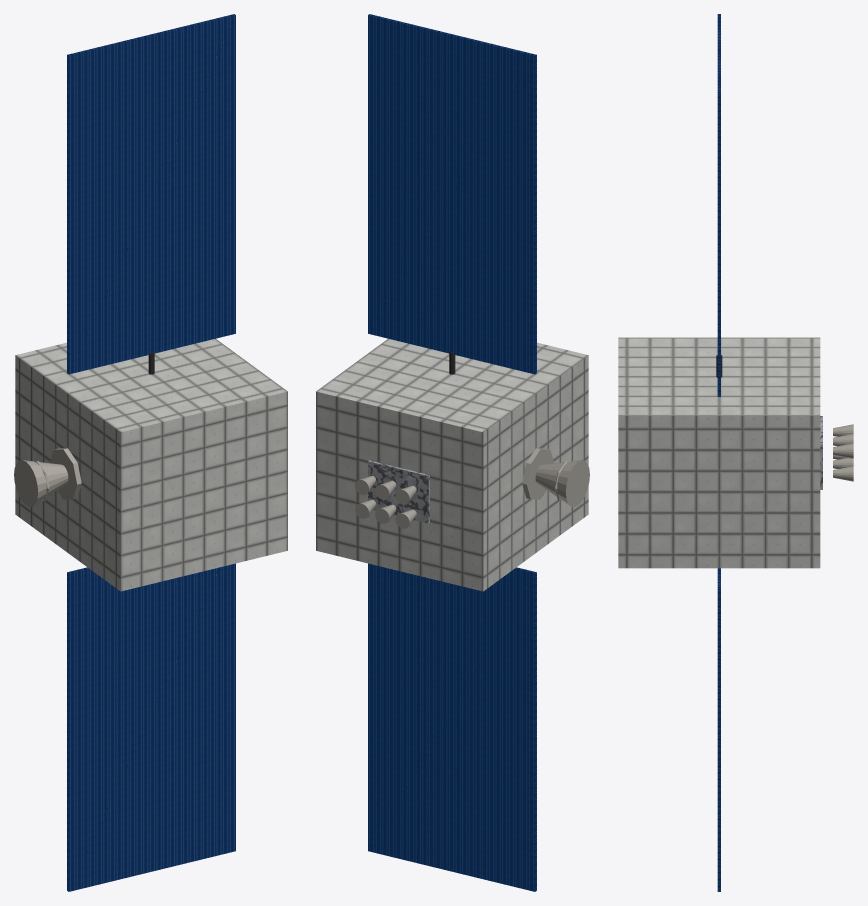
File: client.low.glb
3 renders of one model, left to right at view 1: azimuth 30°, elevation 25°; view 2: azimuth 150°, elevation 25°; view 3: azimuth 270°, elevation 25°, orthographic. The views are drawn at different scales.
Parts seen in each view (by area): view 1: solar_wing_r, bus, solar_wing_l, servicing_0_apogee_nozzle_apogee_nozzle_exit; view 2: solar_wing_r, bus, solar_wing_l, payload_0_feed_array, servicing_0_apogee_nozzle_apogee_nozzle_exit; view 3: bus, solar_wing_r, payload_0_feed_array, solar_wing_l.
Part boxes in pixels (box(x1,y1,x2,y2)): solar_wing_r: box(67, 14, 235, 374); bus: box(15, 338, 287, 591); solar_wing_l: box(67, 563, 235, 891); servicing_0_apogee_nozzle_apogee_nozzle_exit: box(14, 448, 81, 506); solar_wing_r: box(368, 14, 536, 374); bus: box(316, 338, 588, 591); solar_wing_l: box(368, 563, 536, 891); payload_0_feed_array: box(355, 460, 429, 528); servicing_0_apogee_nozzle_apogee_nozzle_exit: box(522, 448, 589, 506); bus: box(618, 337, 820, 568); solar_wing_r: box(717, 14, 720, 396); payload_0_feed_array: box(820, 416, 853, 489); solar_wing_l: box(717, 568, 720, 891).
Size of the model in its own units: 2.75 by 10.5 by 2.8.
Materials: 5 (3 with a texture image).
